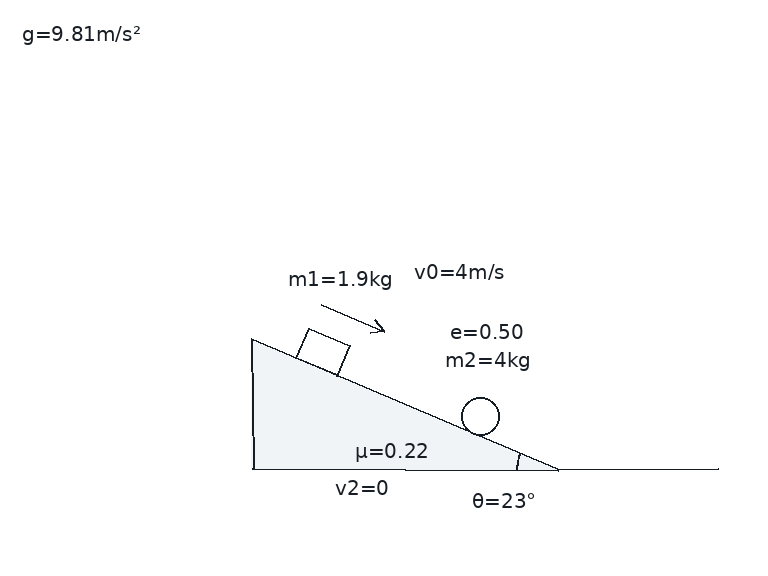ball: (459, 395, 501, 437)
block: (294, 327, 351, 377)
ramp: (249, 337, 559, 471)
